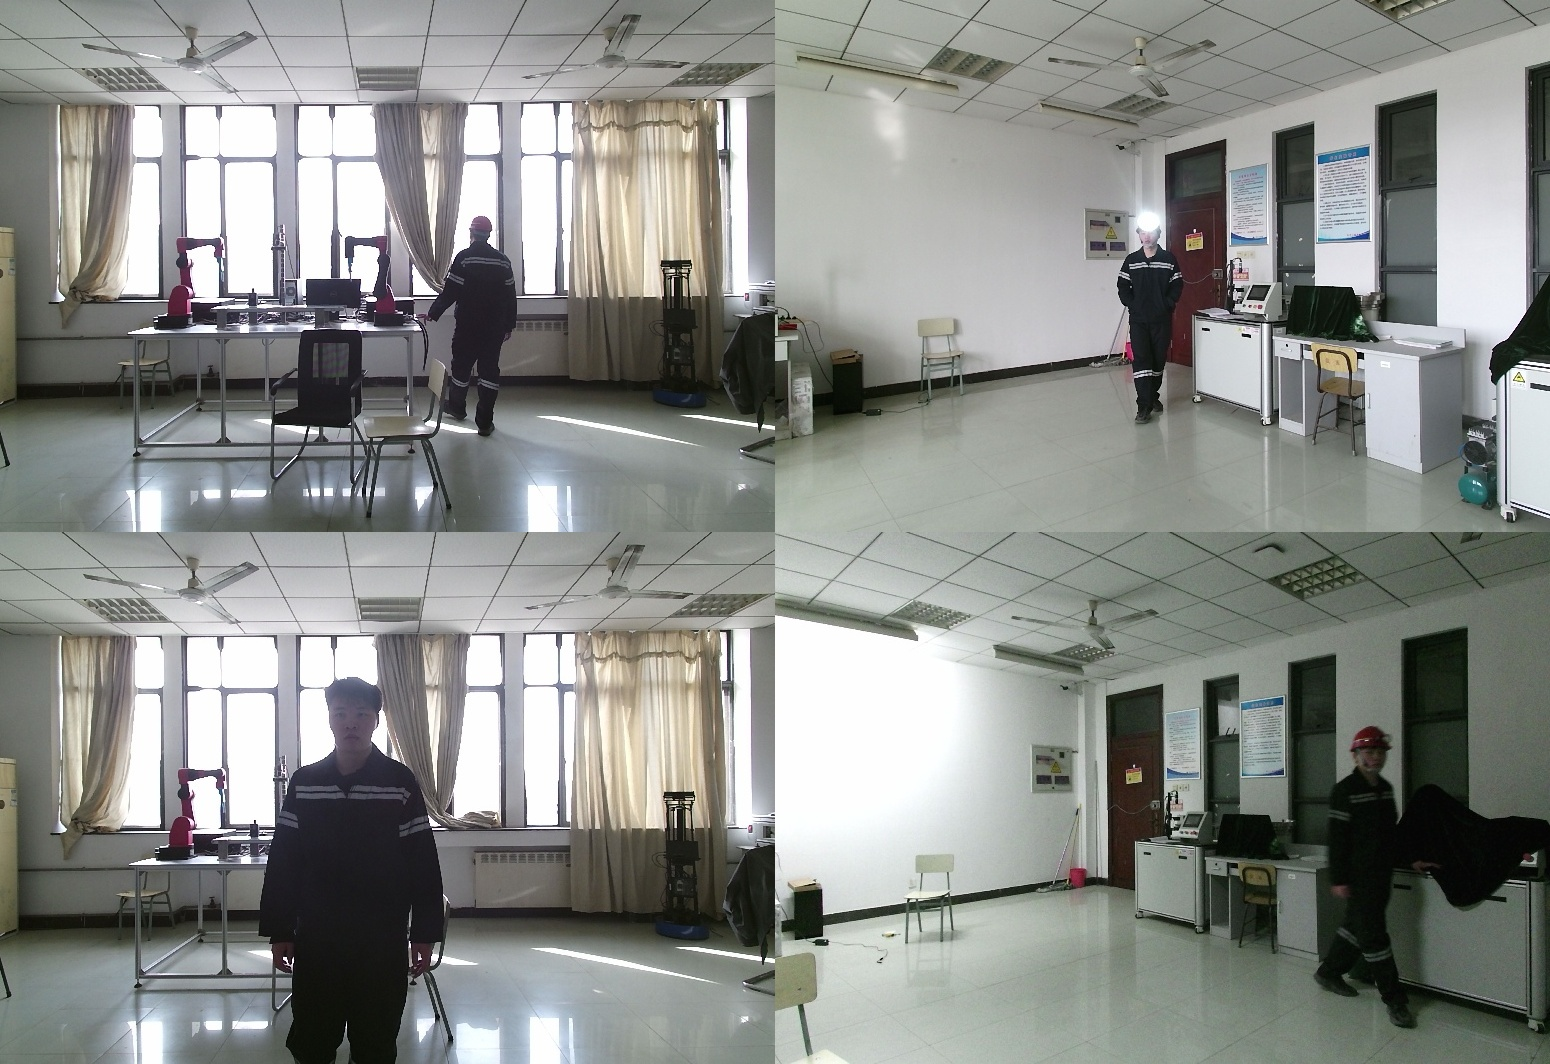person: (268, 678, 458, 1064), (1308, 728, 1432, 1026), (417, 217, 523, 437), (1114, 221, 1189, 429)
